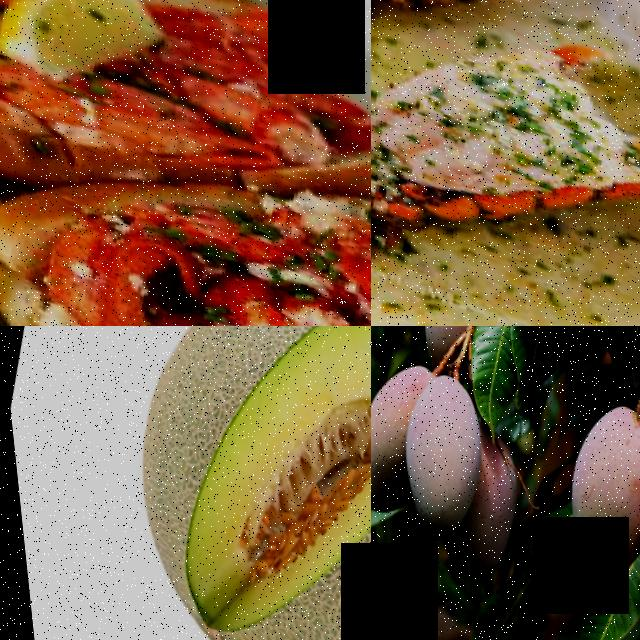lemon: (0, 0, 159, 103)
lobster tails: (371, 0, 640, 326)
mango: (375, 358, 499, 542), (532, 380, 640, 590), (439, 427, 530, 580), (371, 344, 427, 518), (607, 451, 640, 640), (402, 326, 490, 368)
melon: (52, 326, 371, 640)
